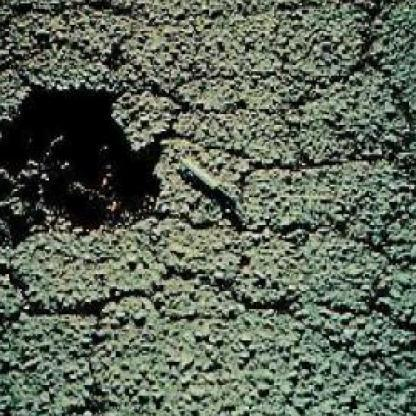pothole: (0, 71, 166, 255)
